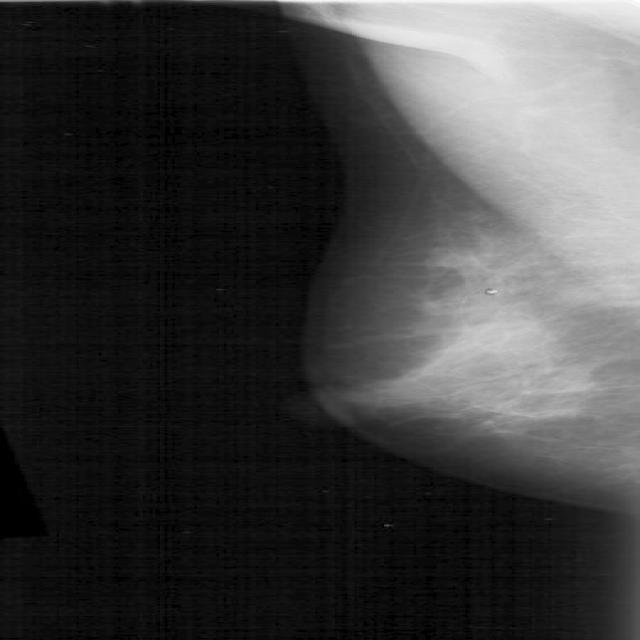tumour: (558, 276, 638, 306)
